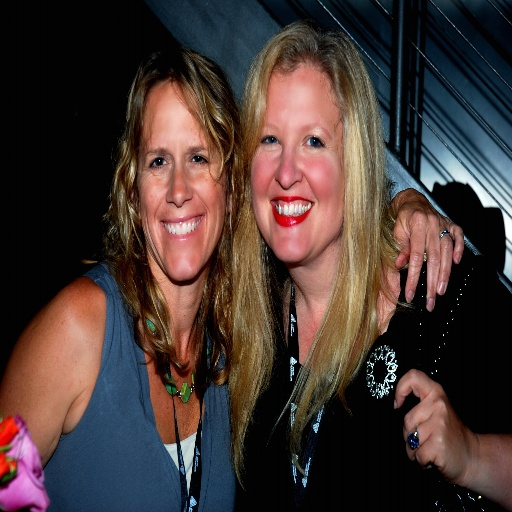hand: (385, 387, 500, 489), (389, 177, 468, 322)
